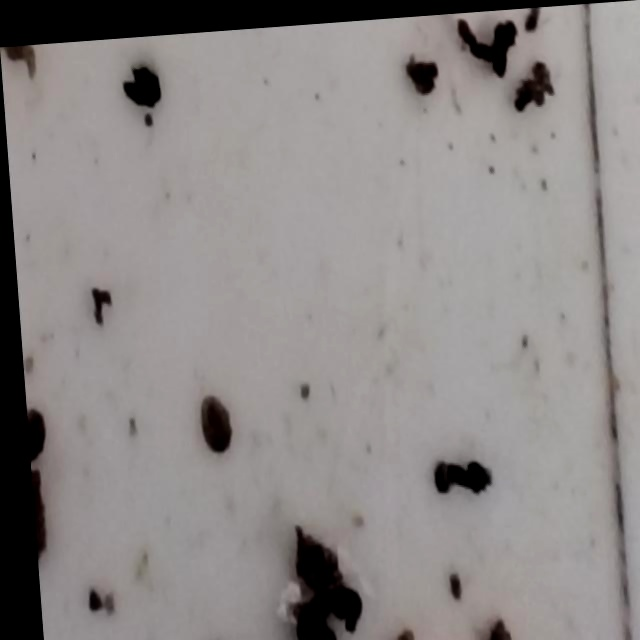varroa: (190, 383, 230, 454), (20, 394, 45, 462)
